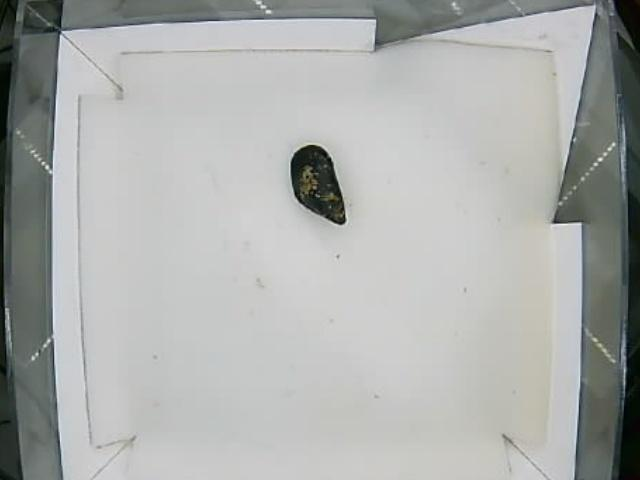Shell: (288, 145, 347, 226)
